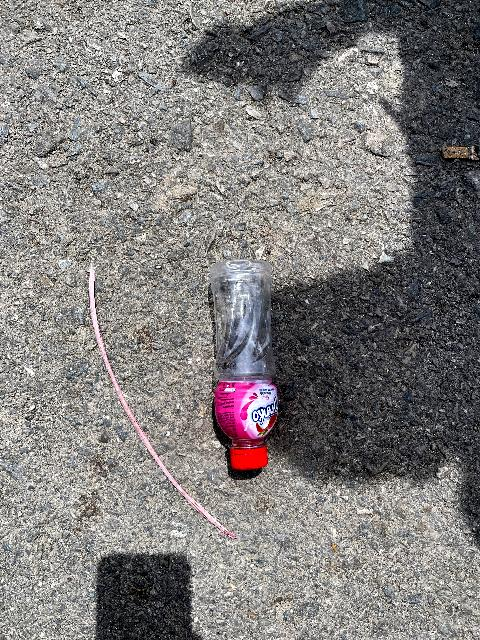bottle: (194, 256, 291, 494)
